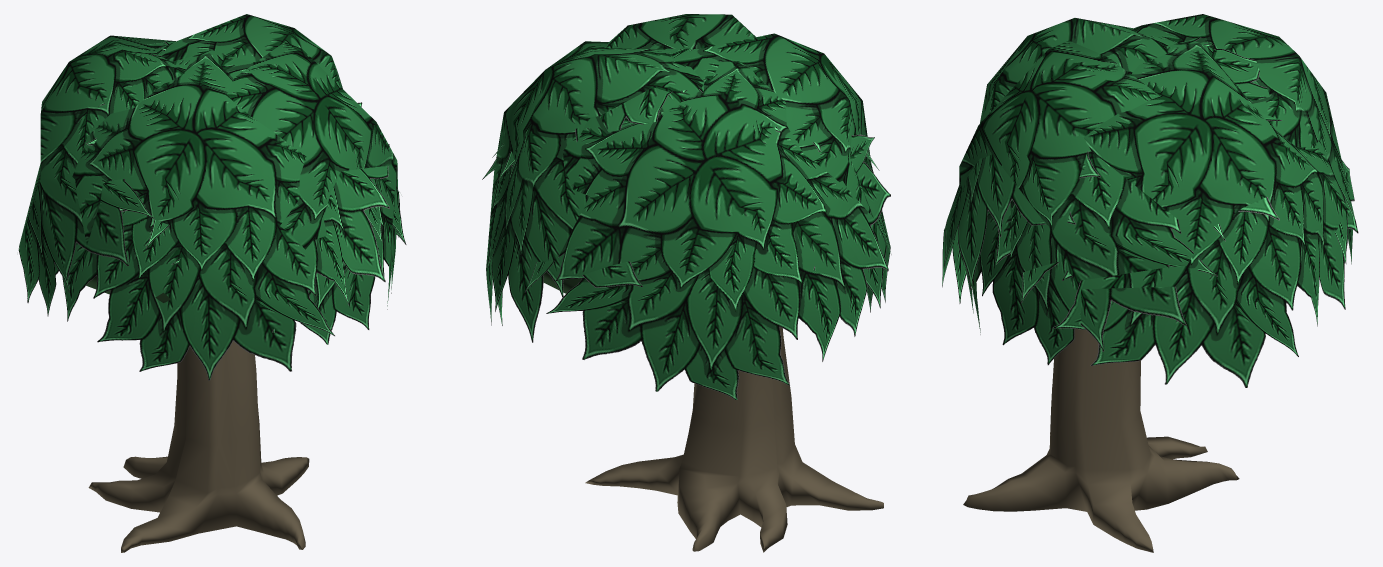
Rendered from model-Tree1.fbx.
The picture shows the model from 3 angles, left to right: view 1: azimuth 30°, elevation 25°; view 2: azimuth 150°, elevation 25°; view 3: azimuth 270°, elevation 25°; orthographic projection. The views are drawn at different scales.
Visible parts, largest first — view 1: leaves5, trunk; view 2: leaves5, trunk; view 3: leaves5, trunk.
Part boxes in pixels (x1,y1,x2,y2): leaves5: (18, 14, 406, 380); trunk: (88, 341, 309, 552); leaves5: (482, 14, 891, 399); trunk: (585, 327, 883, 552); leaves5: (942, 14, 1358, 387); trunk: (963, 329, 1239, 552).
Size of the model in its own units: 338 by 411 by 349.
